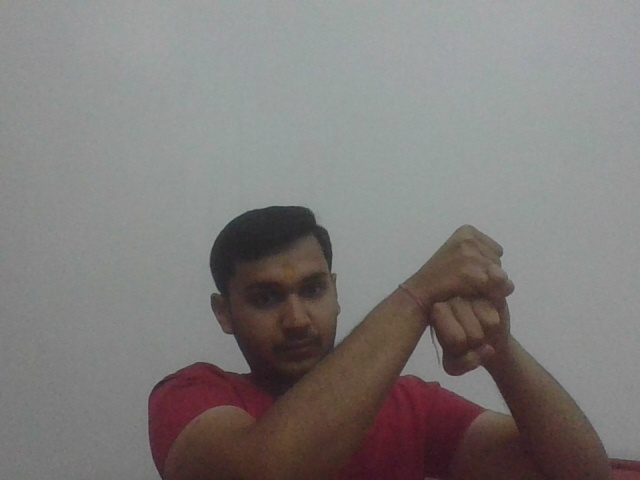S: (424, 221, 517, 379)
